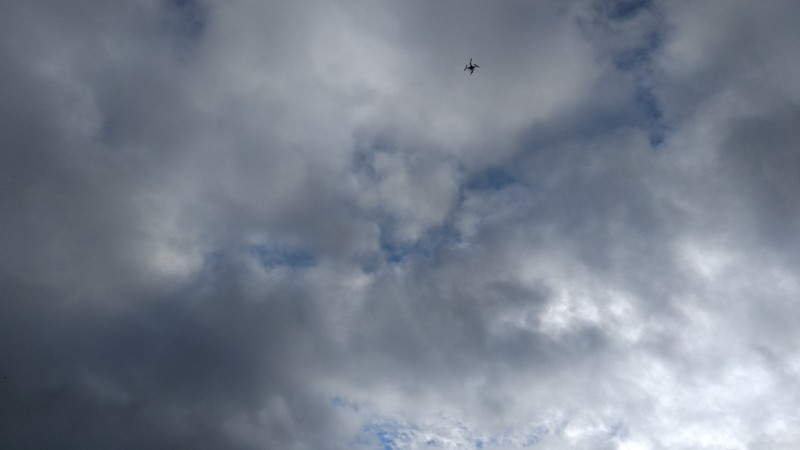drone: (463, 58, 480, 76)
